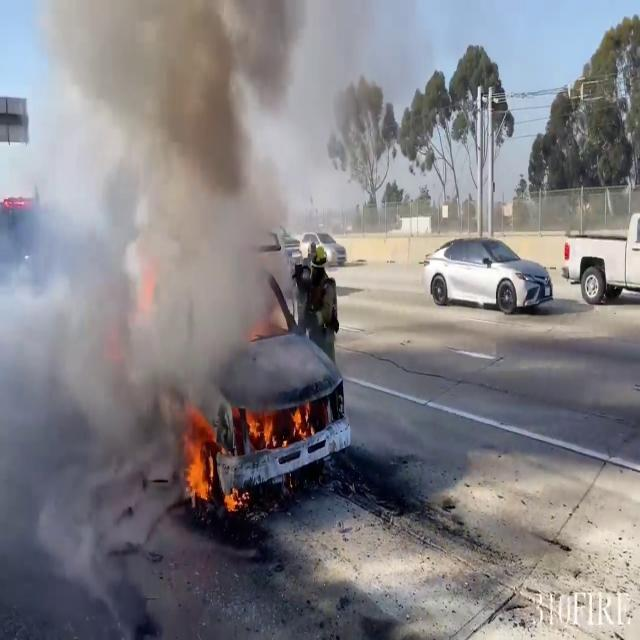Fire: (178, 412, 218, 518)
Smoke: (2, 0, 310, 591)
